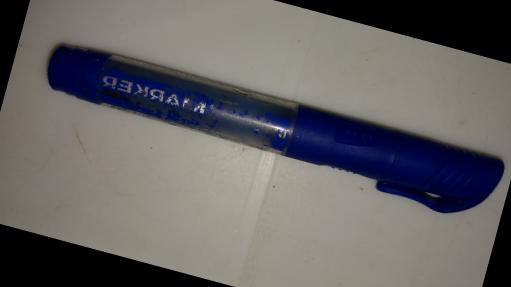Whiteboard marker: (35, 38, 507, 228)
